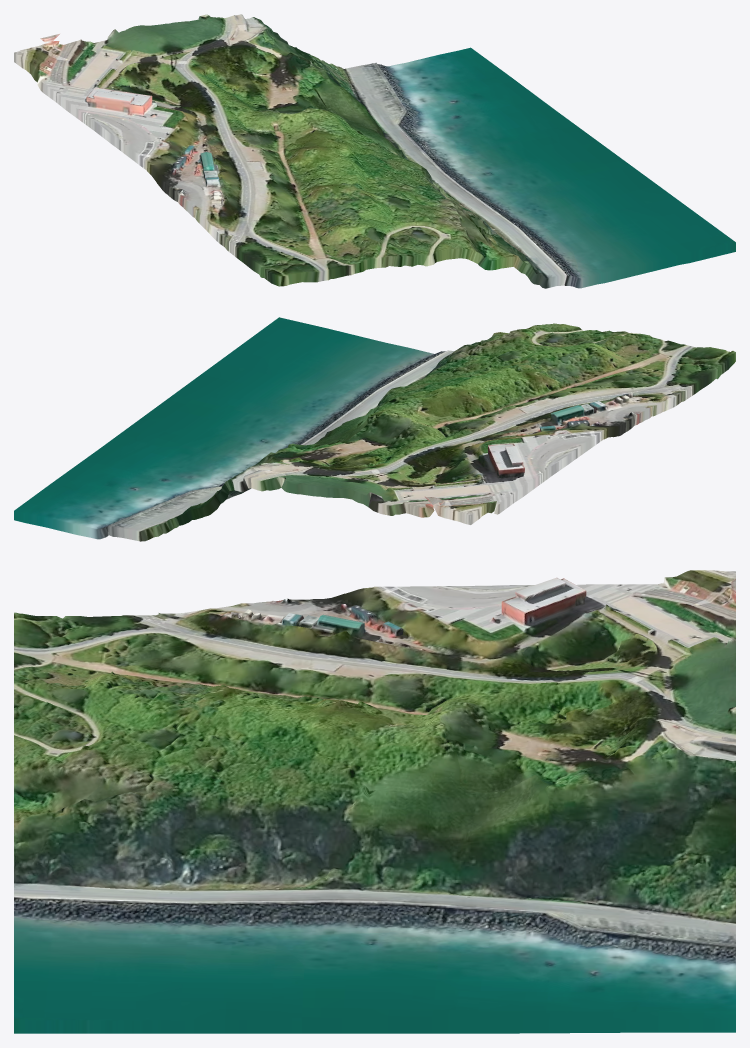
Rendered from z17-20944-50646-h0-yup-uvflip-v3-world.glb.
3 renders of one model, top to bottom at view 1: azimuth 30°, elevation 25°; view 2: azimuth 150°, elevation 25°; view 3: azimuth 270°, elevation 25°, orthographic. The views are drawn at different scales.
Size of the model in its own units: 241 by 62.72 by 243.
Materials: 1 (1 with a texture image).
